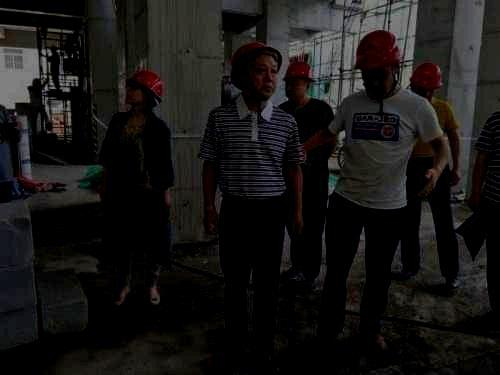helmet: (351, 29, 403, 92), (230, 40, 283, 96), (124, 69, 166, 107), (409, 62, 444, 101), (281, 61, 316, 99)
